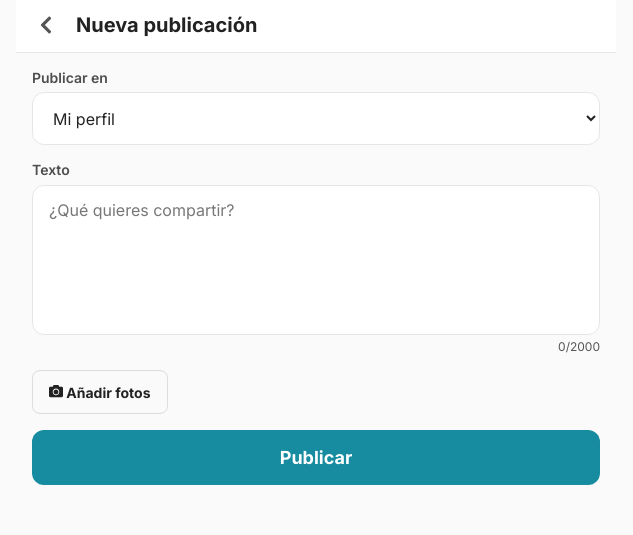
Test: PostCreate › tells her to verify her email on EMAIL_NOT_VERIFIED, not the community message
Type "Hola" into the text box labelled "Texto" at [316, 260], box top-left (33, 186), bottom-right (599, 334)
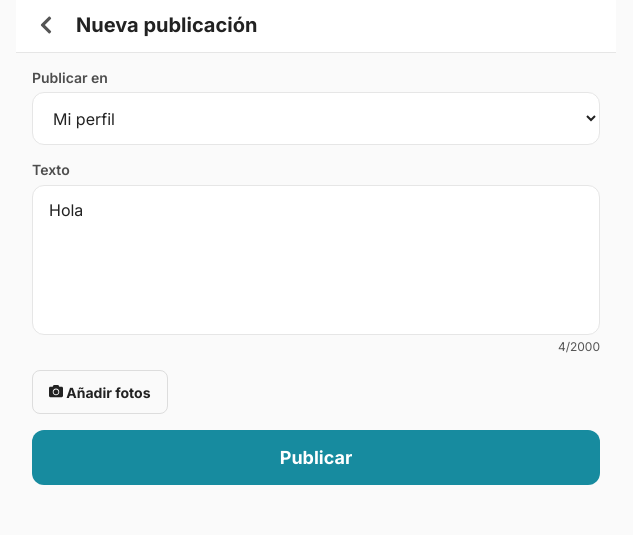
Click the button "Publicar" at [316, 458], box top-left (32, 430), bottom-right (600, 485)
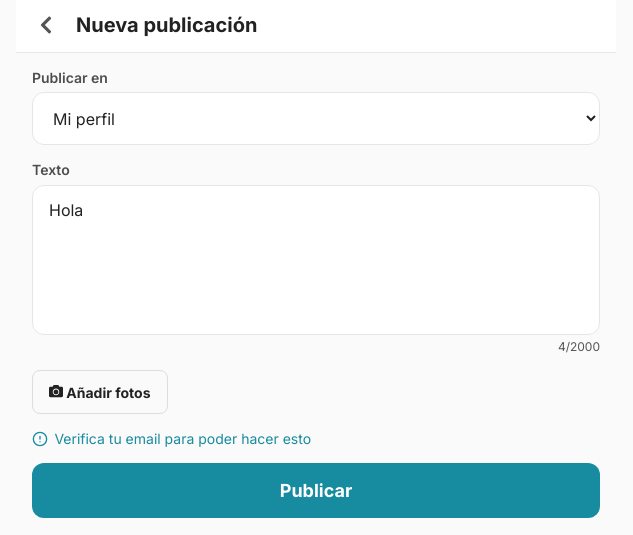
Result: the text "Verifica tu email para poder hacer esto" is shown at top-left (32, 430), bottom-right (311, 447)
